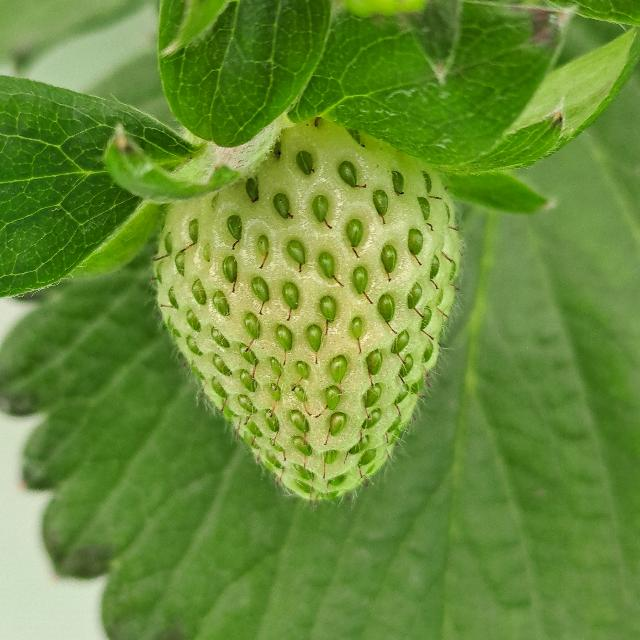Health_25: (152, 117, 462, 499)
